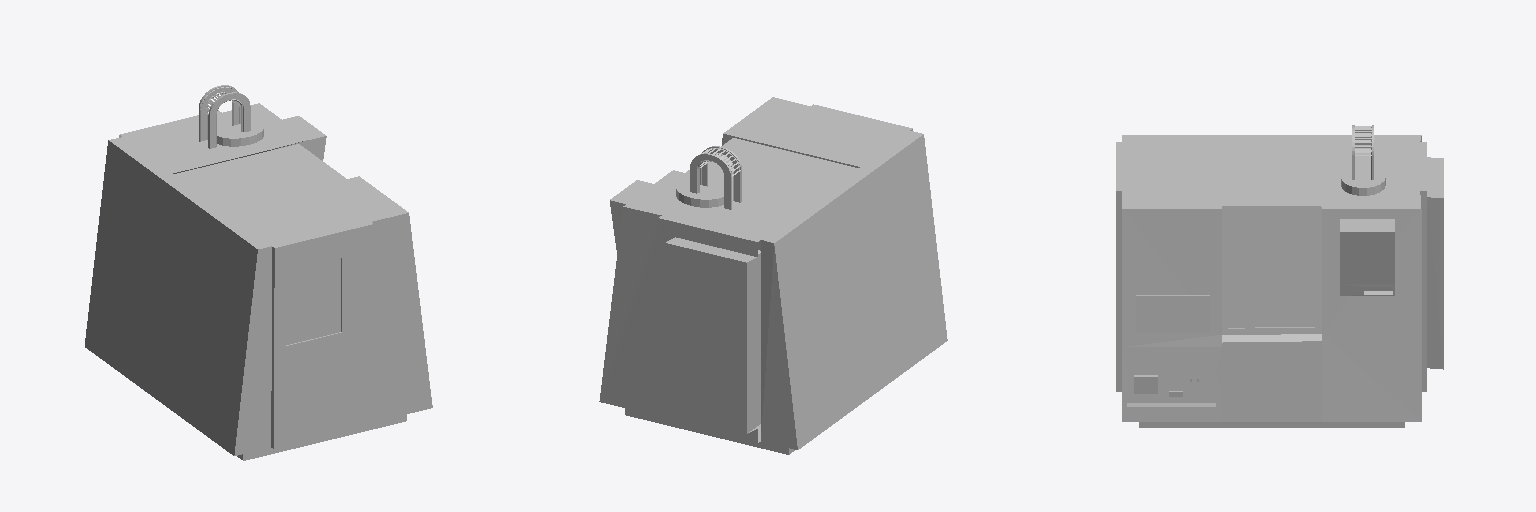
The picture shows the model from 3 angles: view 1: azimuth 30°, elevation 25°; view 2: azimuth 150°, elevation 25°; view 3: azimuth 270°, elevation 25°; orthographic projection.
Visible parts, largest first — view 1: Box[number redacted], Cylinder2712, Rectangle3323, Rectangle3319; view 2: Box[number redacted], Cylinder2712, Rectangle3319, Rectangle3321; view 3: Box[number redacted], Rectangle3319, Box[number redacted], Cylinder2712.
Part boxes in pixels (bbox=[...]): Box[number redacted]: bbox=[85, 103, 432, 460]; Cylinder2712: bbox=[217, 119, 263, 146]; Rectangle3323: bbox=[208, 92, 250, 148]; Rectangle3319: bbox=[283, 116, 326, 160]; Box[number redacted]: bbox=[599, 97, 947, 454]; Cylinder2712: bbox=[676, 180, 723, 207]; Rectangle3319: bbox=[610, 180, 652, 252]; Rectangle3321: bbox=[690, 153, 731, 209]; Box[number redacted]: bbox=[1116, 135, 1443, 427]; Rectangle3319: bbox=[1340, 219, 1394, 295]; Box[number redacted]: bbox=[1136, 295, 1209, 332]; Cylinder2712: bbox=[1341, 165, 1385, 195].
Bounding box in the file's own units: 2097 × 2649 × 2949.